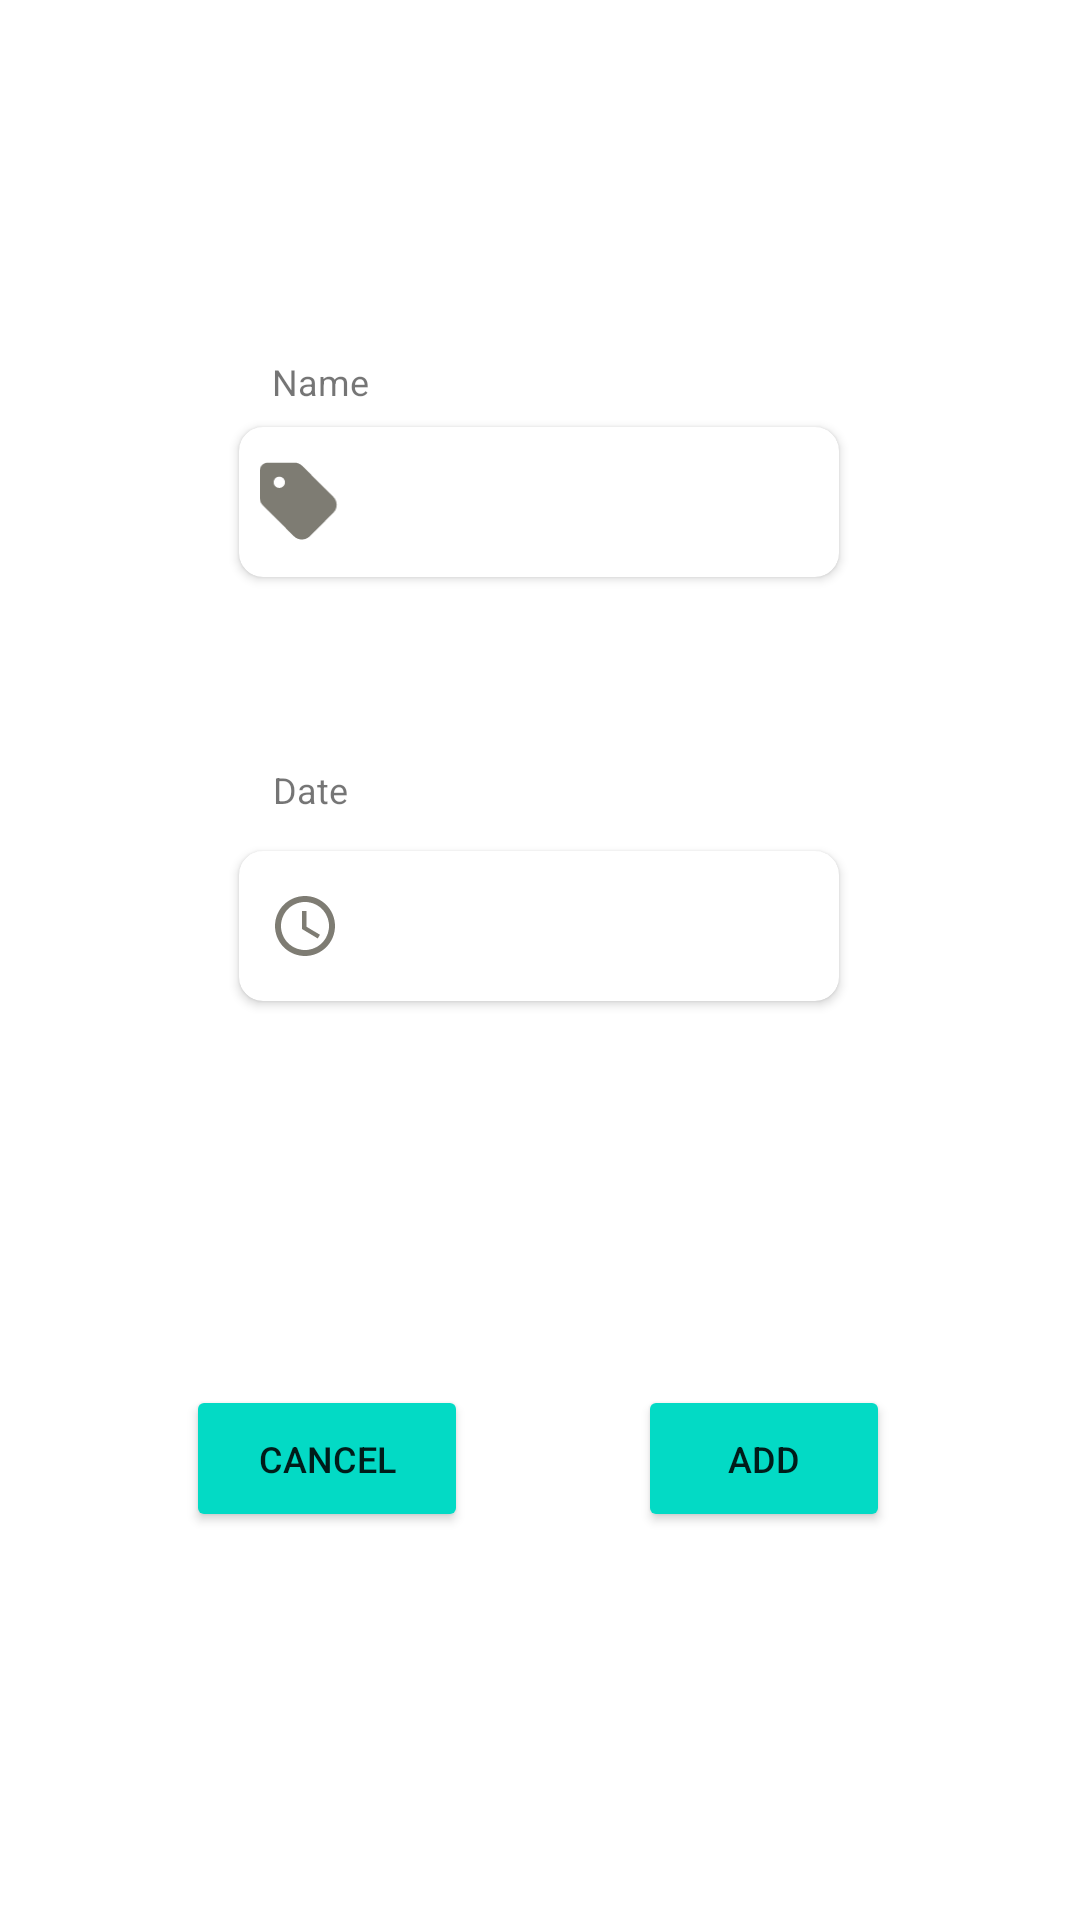

Where to tap for icons on this 1080px×1920px app screen, as (x,y):
tag: (298,501)
